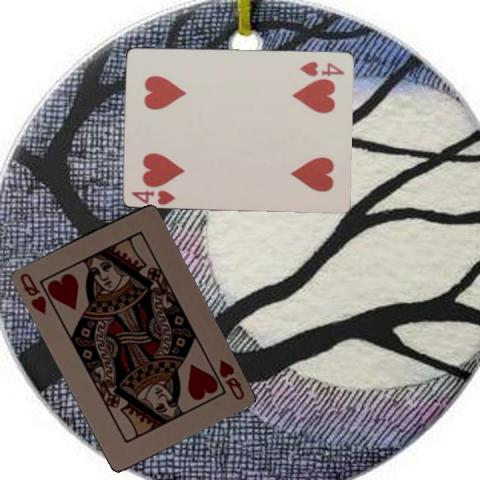4h: (297, 58, 346, 76), (128, 186, 176, 204)
Qh: (16, 270, 47, 316), (215, 356, 246, 401)
